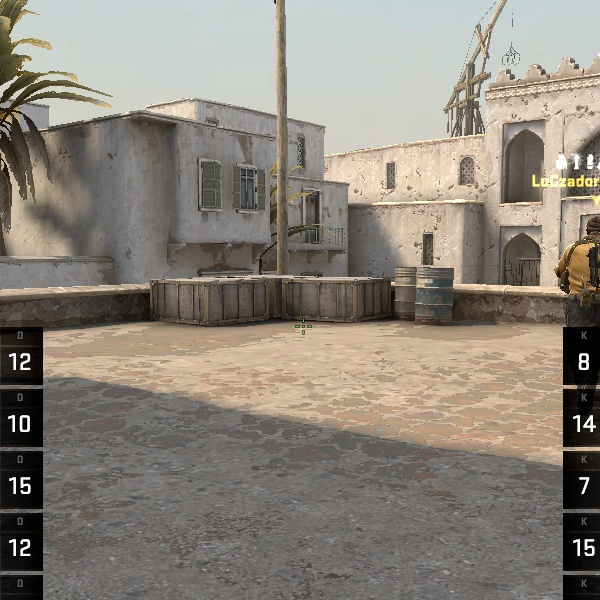t_body: (549, 212, 599, 323)
t_head: (577, 209, 599, 249)
